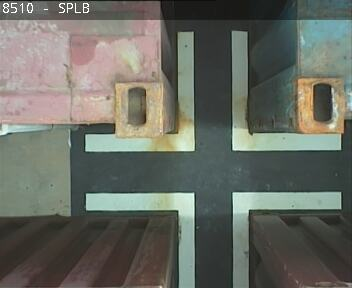groundmarker_1: (84, 30, 340, 151), (85, 191, 342, 288)
